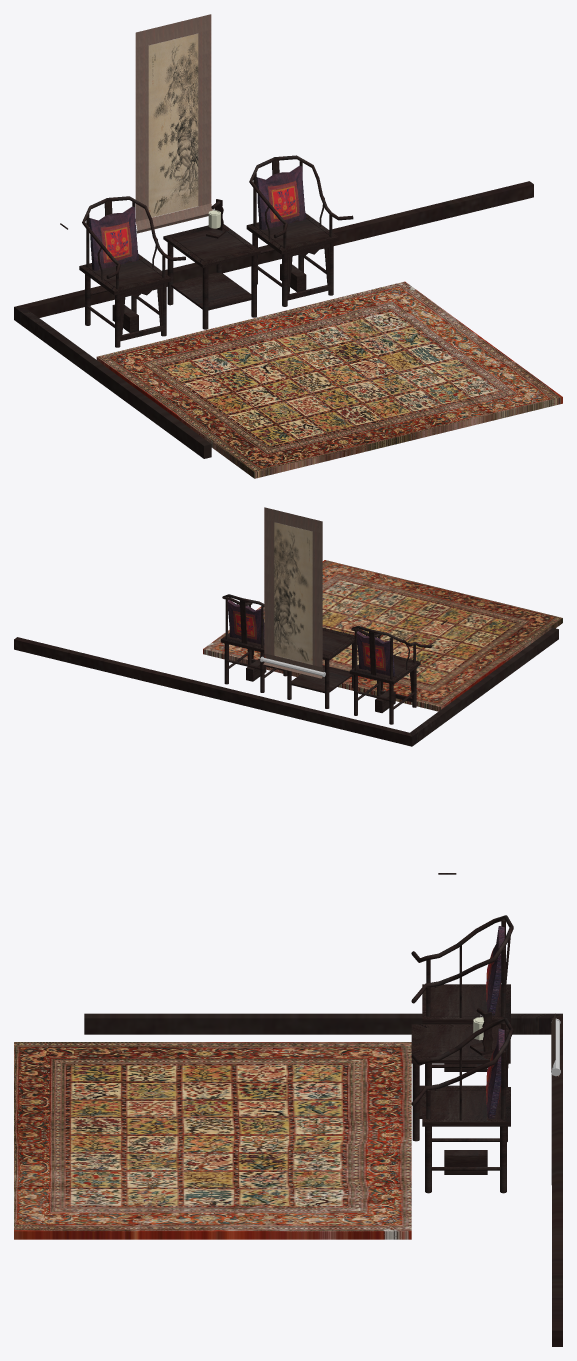
File: furniture 1.fbx
The picture shows the model from 3 angles, top to bottom: view 1: azimuth 30°, elevation 25°; view 2: azimuth 150°, elevation 25°; view 3: azimuth 270°, elevation 25°; orthographic projection. The views are drawn at different scales.
Parts seen in each view (by area): view 1: pCube17, polySurface7, polySurface11, polySurface10, pCube11, pCube4, pCube14, pCube16, pCube9, pCube7, polySurface8, polySurface1 (+2 smaller); view 2: pCube17, polySurface7, polySurface11, polySurface10, pCube14, pCube4, pCube7, pCube9, pCube11, polySurface1, pCube16, pCylinder91; view 3: pCube17, polySurface7, pCube16, pCube9, pCube11, polySurface1, polySurface8, pCube14, pCube15, pCube4.
Boxes of the visible parts, <box> form: pCube17: <box>96,281,562,478</box>; polySurface7: <box>14,181,533,458</box>; polySurface11: <box>148,33,198,217</box>; polySurface10: <box>135,14,212,233</box>; pCube11: <box>163,224,260,267</box>; pCube4: <box>89,206,139,270</box>; pCube14: <box>256,166,306,229</box>; pCube16: <box>246,213,338,254</box>; pCube9: <box>79,254,171,295</box>; pCube7: <box>171,272,251,310</box>; polySurface8: <box>249,155,353,238</box>; polySurface1: <box>82,196,185,278</box>; pCube17: <box>203,560,562,711</box>; polySurface7: <box>14,628,558,746</box>; polySurface11: <box>274,522,312,664</box>; polySurface10: <box>263,507,323,678</box>; pCube14: <box>227,599,264,644</box>; pCube4: <box>356,631,395,676</box>; pCube7: <box>291,665,352,693</box>; pCube9: <box>349,655,420,684</box>; pCube11: <box>322,627,354,660</box>; polySurface1: <box>351,625,431,647</box>; pCube16: <box>220,633,264,652</box>; pCylinder91: <box>260,656,325,676</box>; pCube17: <box>14,1042,411,1239</box>; polySurface7: <box>84,1013,562,1346</box>; pCube16: <box>422,1087,510,1126</box>; pCube9: <box>422,984,510,1023</box>; pCube11: <box>411,1024,510,1063</box>; polySurface1: <box>411,915,513,1003</box>; polySurface8: <box>411,1018,513,1106</box>; pCube14: <box>486,1028,504,1118</box>; pCube15: <box>444,1150,487,1174</box>; pCube4: <box>486,926,504,1015</box>.
Bounding box in the file's own units: 100 × 49.36 × 73.48.
